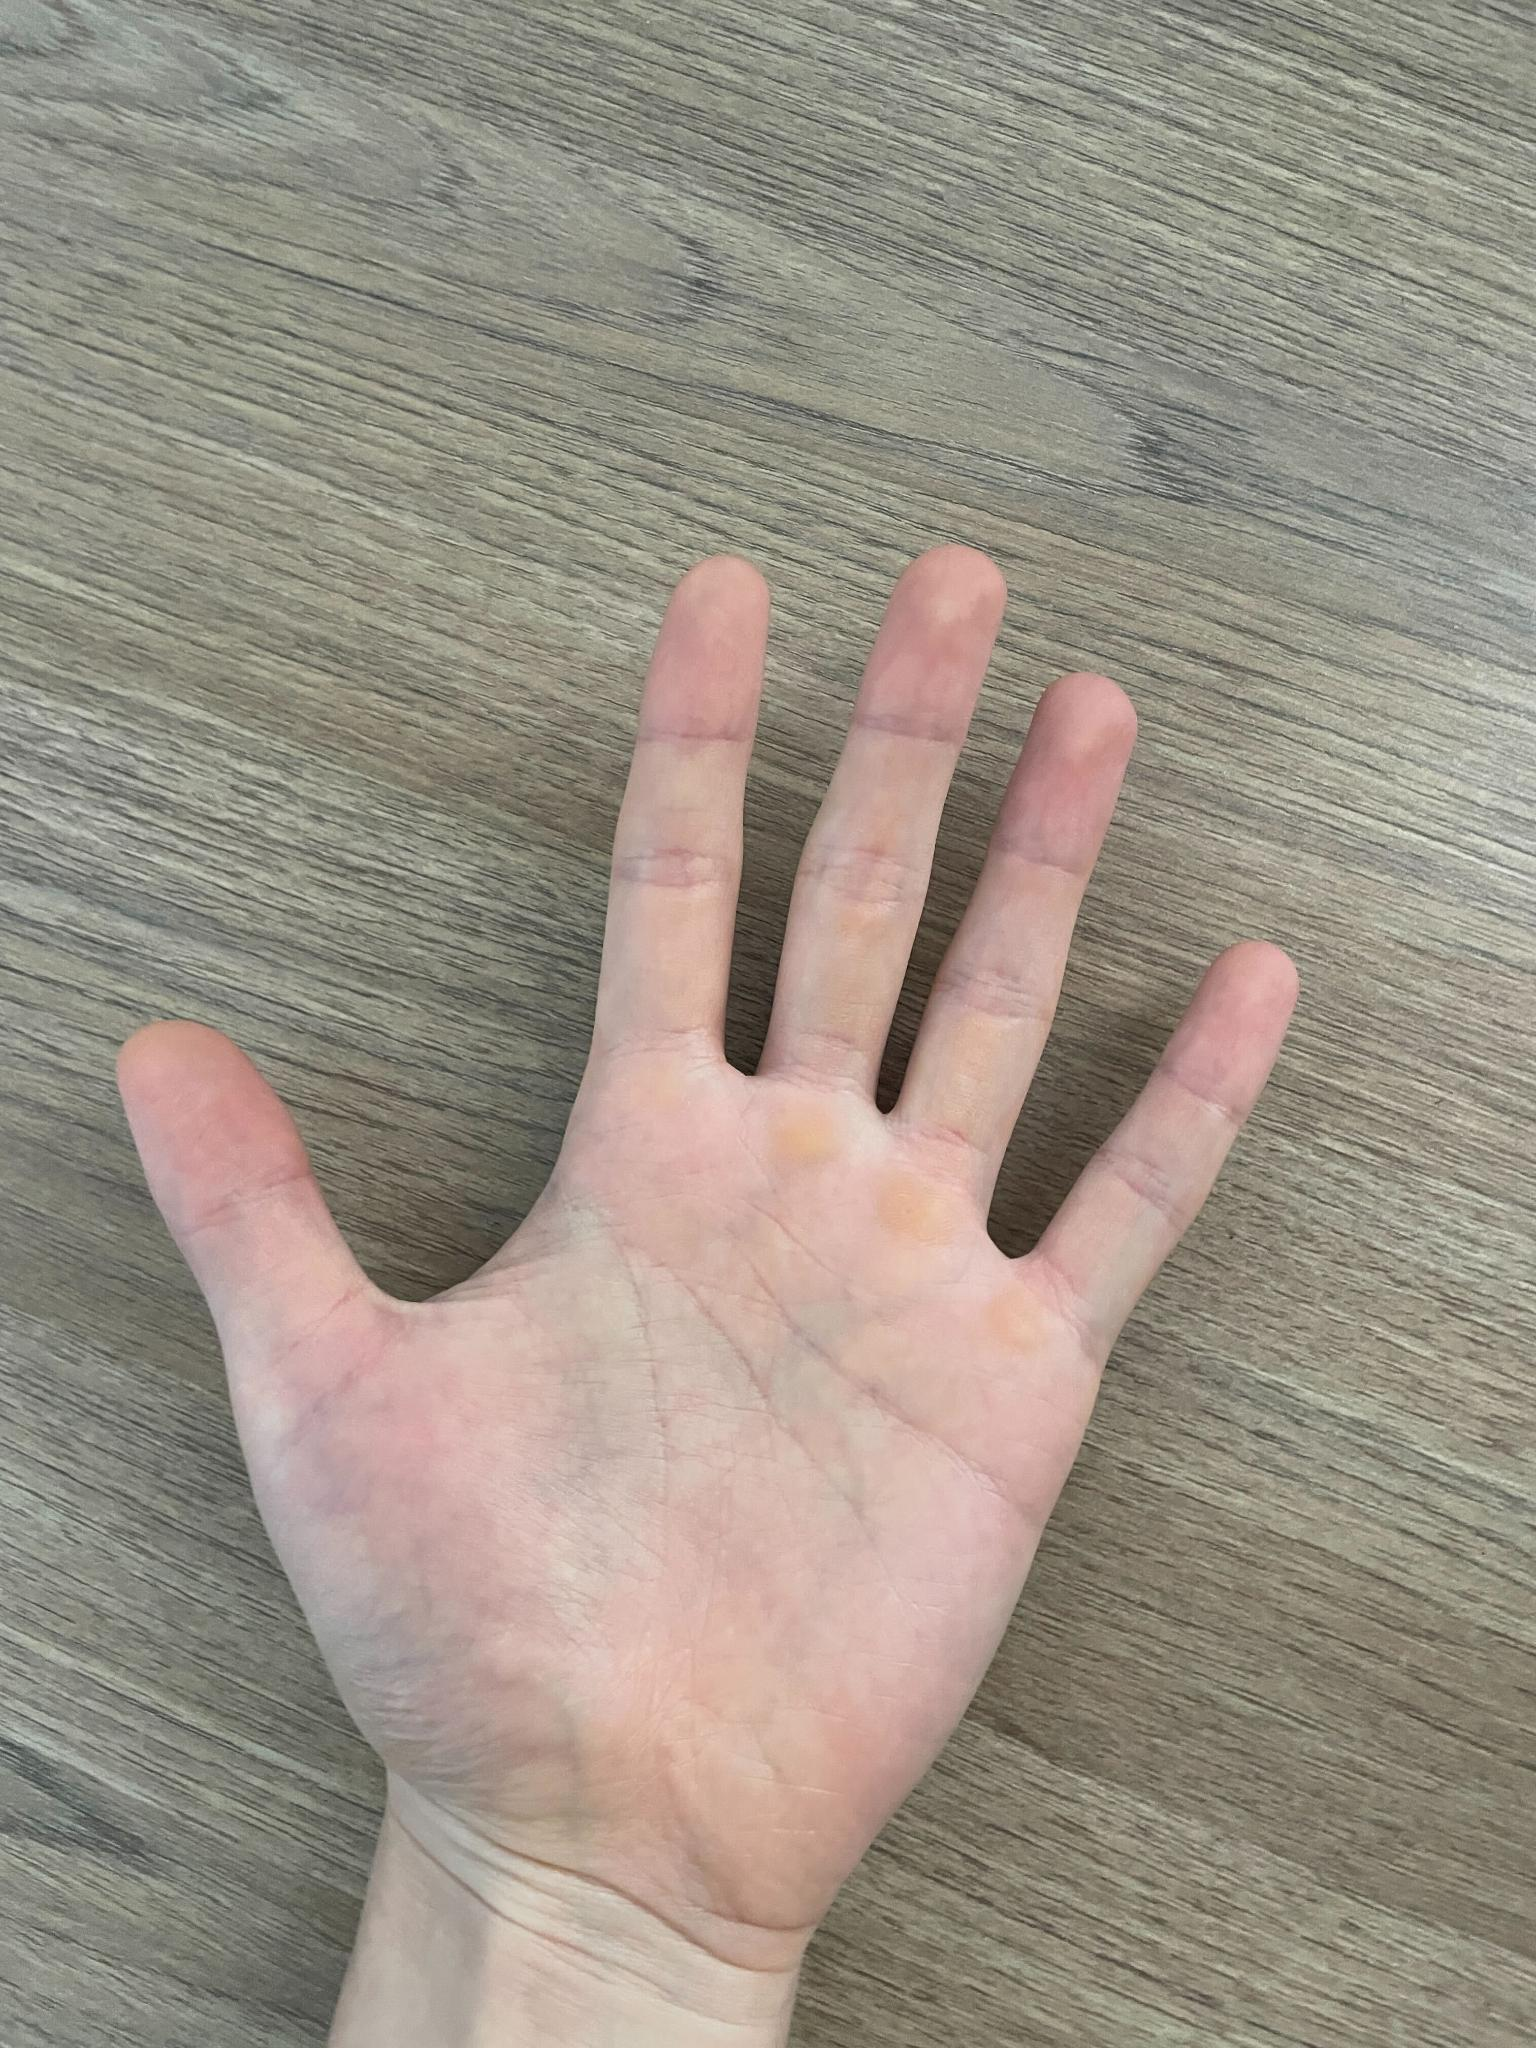open: (98, 531, 1305, 1958)
